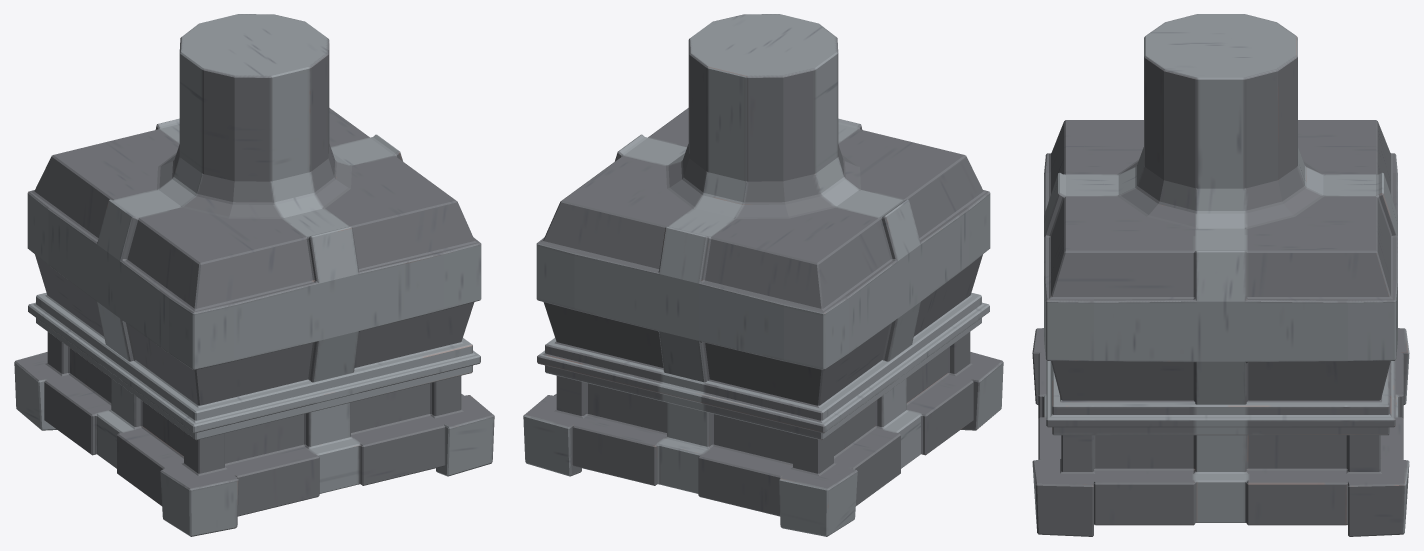
File: Truba (2).fbx
3 views of the same model, side by side, from view 1: azimuth 30°, elevation 25°; view 2: azimuth 150°, elevation 25°; view 3: azimuth 270°, elevation 25° (orthographic). The views are drawn at different scales.
Parts seen in each view (by area): view 1: Plane.061; view 2: Plane.061; view 3: Plane.061.
Part boxes in pixels (x1,y1,x2,y2): Plane.061: (14, 14, 494, 536); Plane.061: (523, 14, 1003, 536); Plane.061: (1032, 14, 1409, 536).
Bounding box in the file's own units: 160 × 196 × 160.
